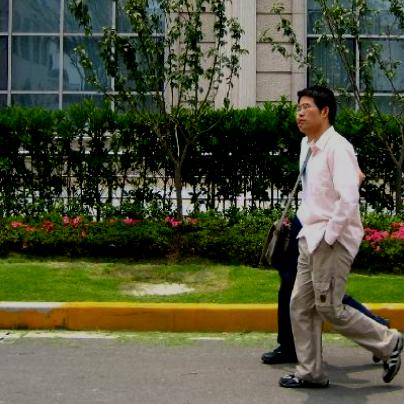ped: (281, 86, 403, 388)
